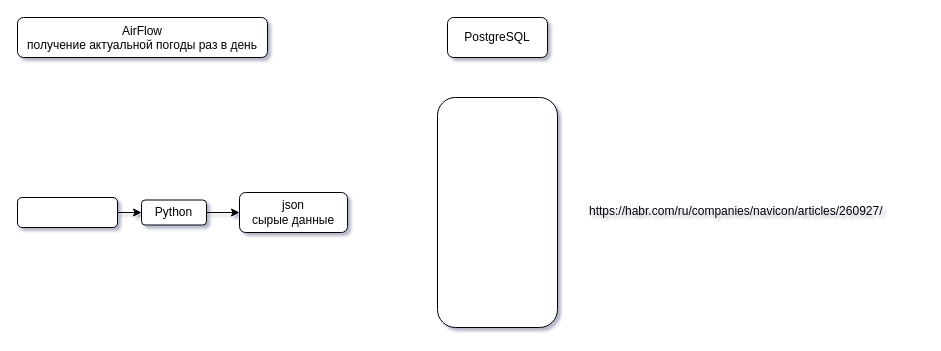
This 941x351 diagram has some shape labels left out. The shapes that lost their labels are listed below. From the top down, each one's box as (x1, y1, x2, y2) in pixels, then its label:
(16, 196, 118, 228): Яндекс.Погода
(436, 96, 558, 328): Справочники НСИ?
